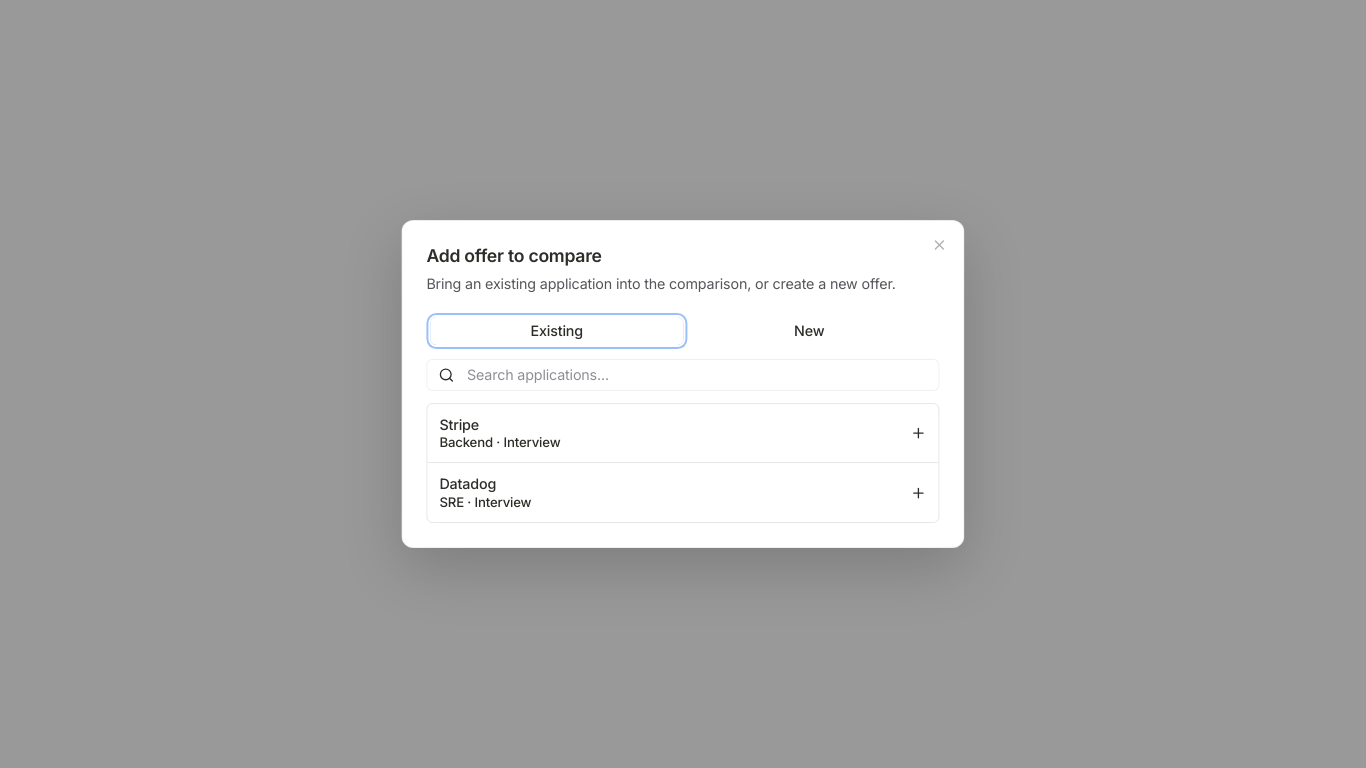
Test: AddOfferDialog › filters candidate list by search query
Type "stripe" into the search field labelled "Search applications...". click: point(683, 375)
box: [426, 359, 940, 391]
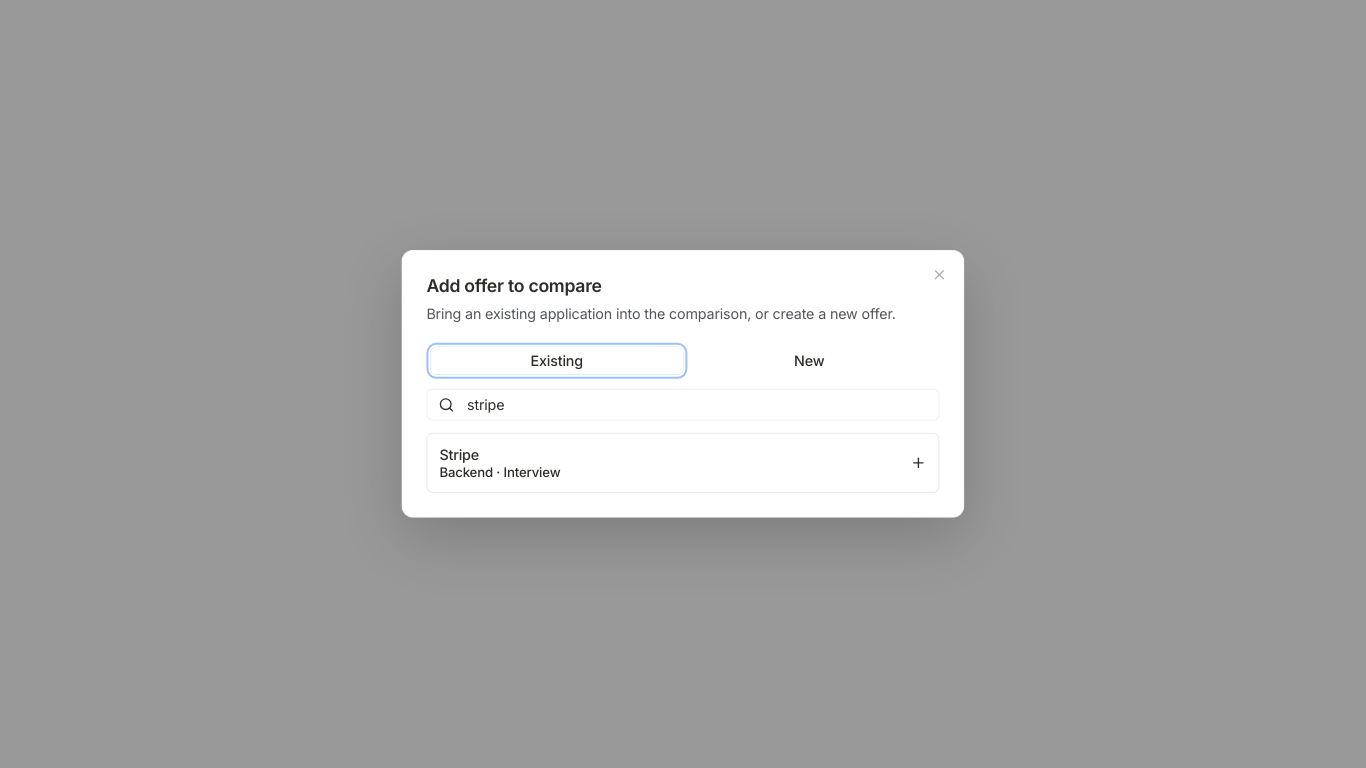
Expected: the text "Stripe" is shown, [439, 446, 479, 463]
Expected: the button "Datadog" is gone
